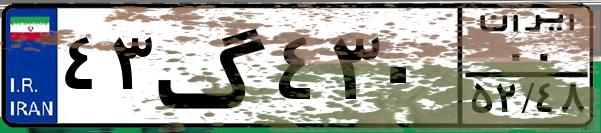0: (385, 28, 445, 110), (537, 27, 568, 80), (508, 27, 537, 80)
2: (495, 70, 520, 125)
3: (330, 28, 385, 110), (110, 28, 156, 98)
4: (270, 28, 330, 110), (57, 26, 110, 100), (535, 70, 560, 125)
5: (470, 70, 495, 125)
8: (560, 70, 590, 125)
گ: (156, 12, 270, 120)
